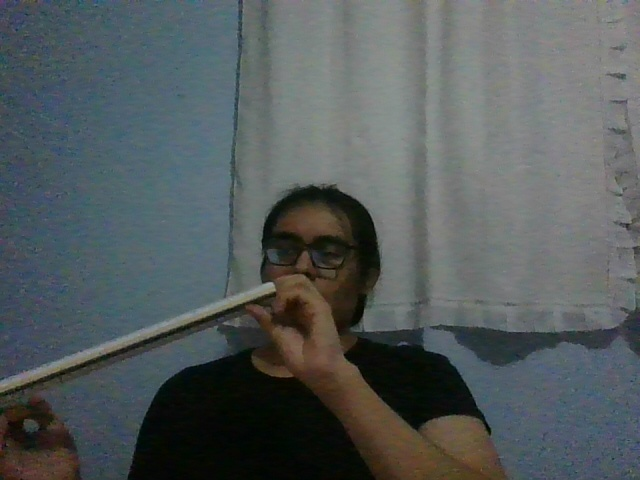regla: (1, 284, 275, 405)
